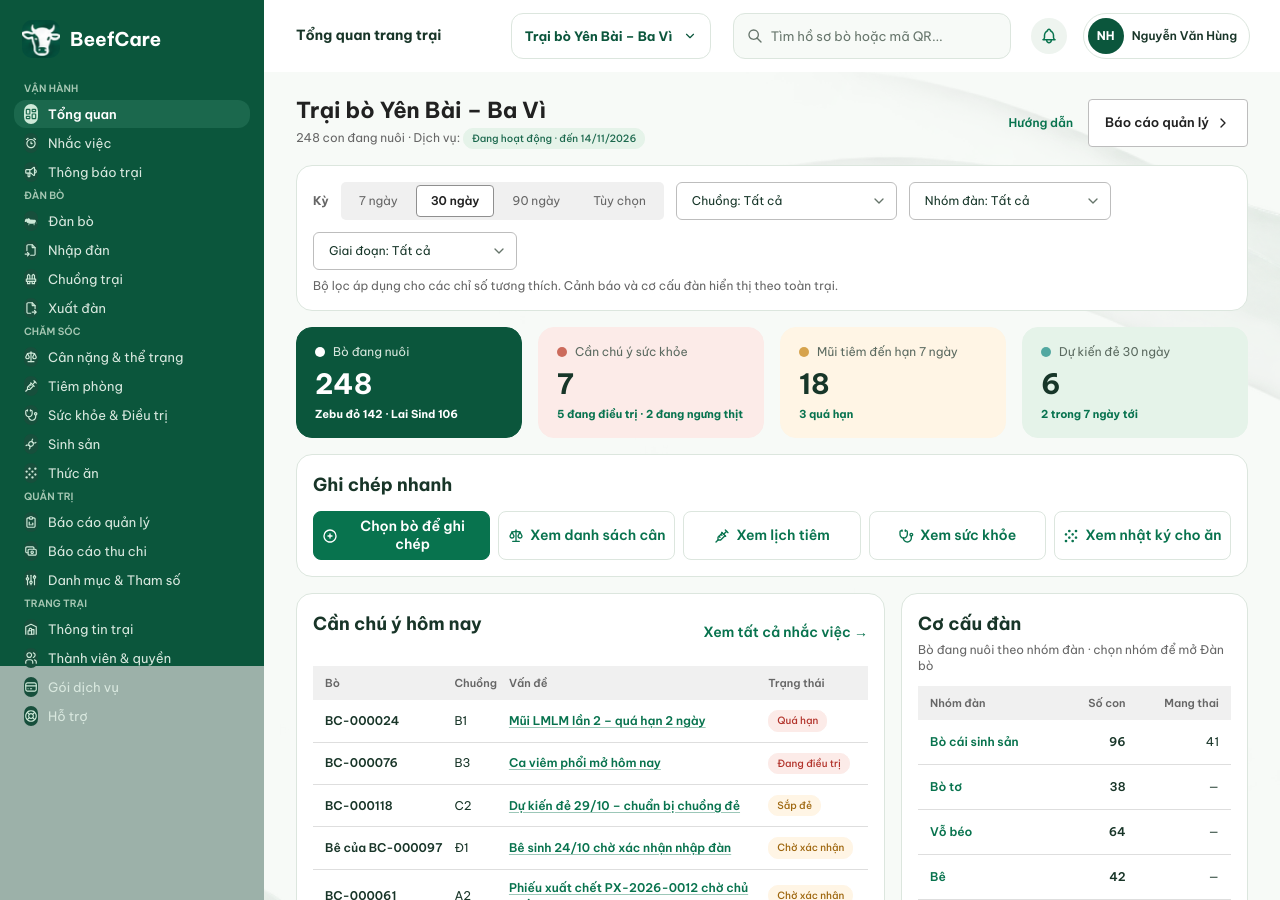
Test: farm dashboard › lets an authorized Owner reopen a dismissed guide and close it without dismissing progress
Expected: the heading "Bắt đầu sử dụng" is not shown
Click the button "Hướng dẫn". click: (1041, 123)
box: [1004,99,1078,147]
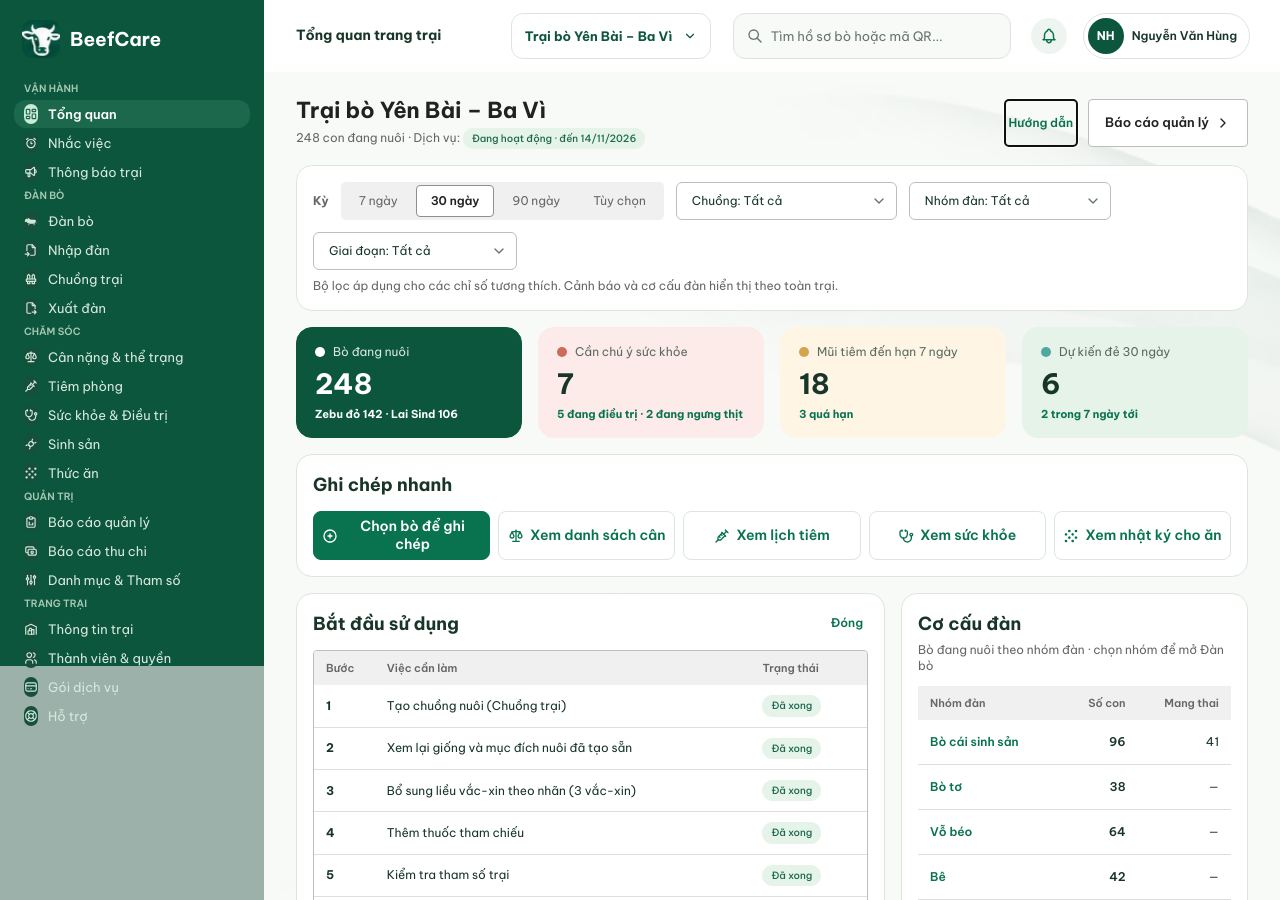
Result: the heading "Bắt đầu sử dụng" is shown at [313,610,459,638]
Result: the text "Đã xong" in the row of "Tạo chuồng nuôi (Chuồng trại)" is shown at [772,699,812,712]
Click the button "Đóng". click: (847, 623)
box: [826,610,868,636]
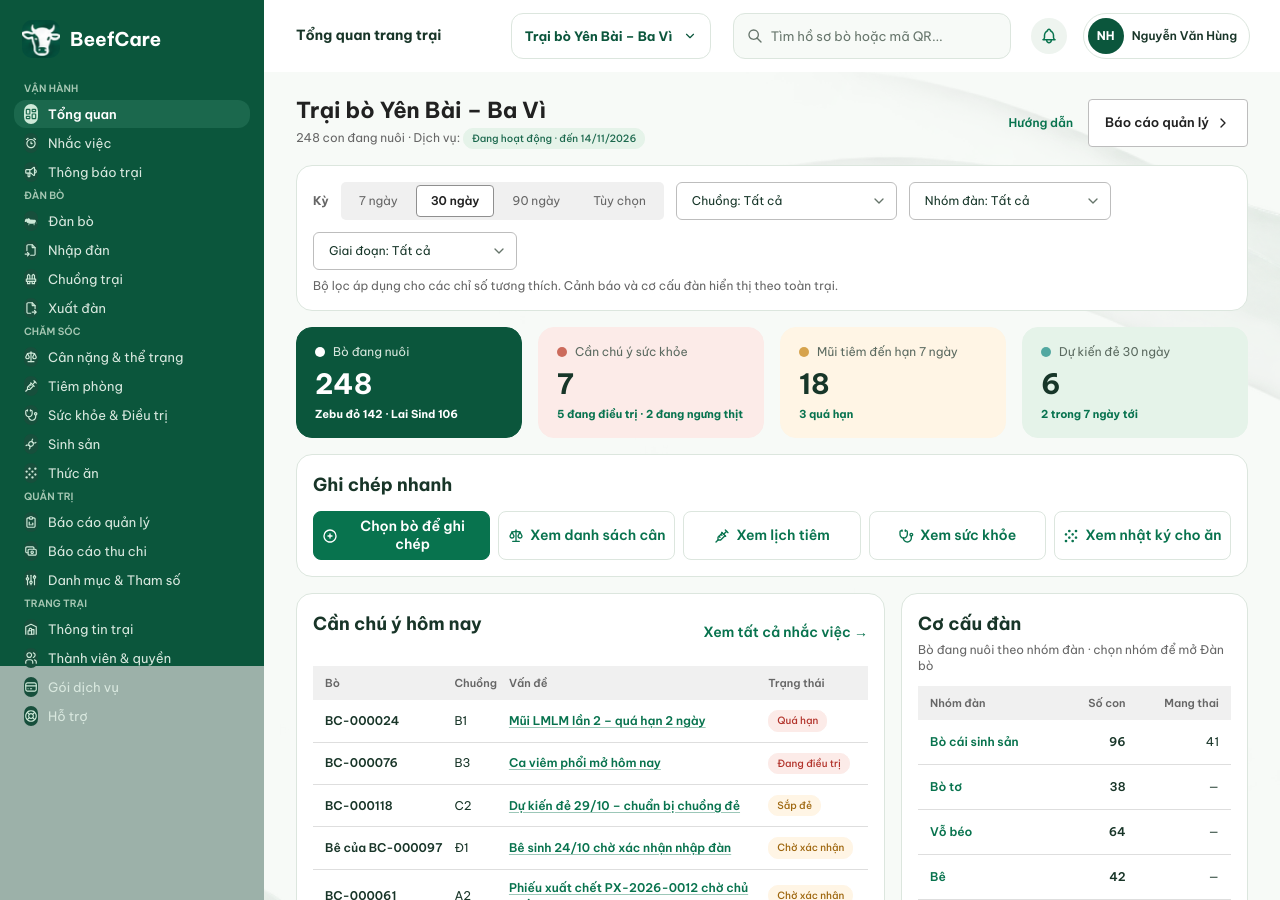
Result: the heading "Bắt đầu sử dụng" is gone
